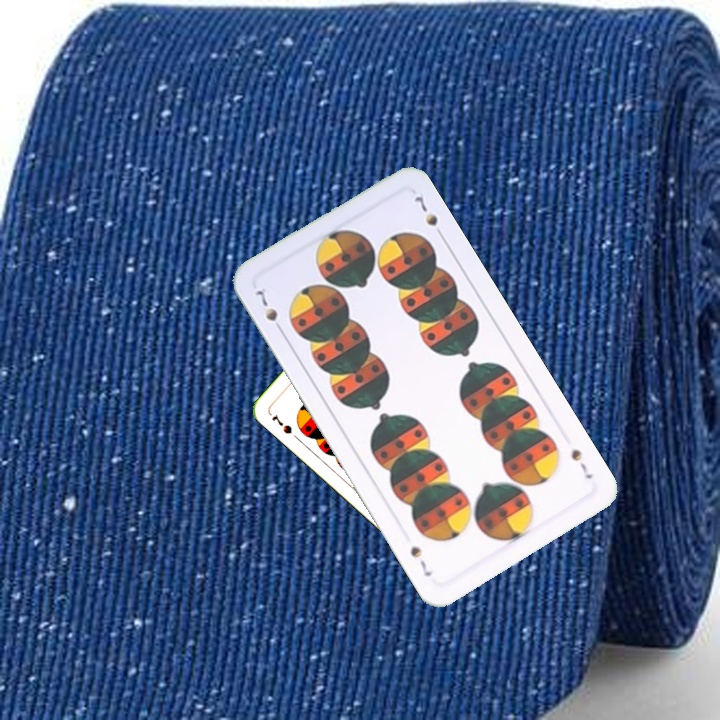S7: (252, 282, 287, 337), (567, 445, 596, 482), (267, 410, 295, 436)
